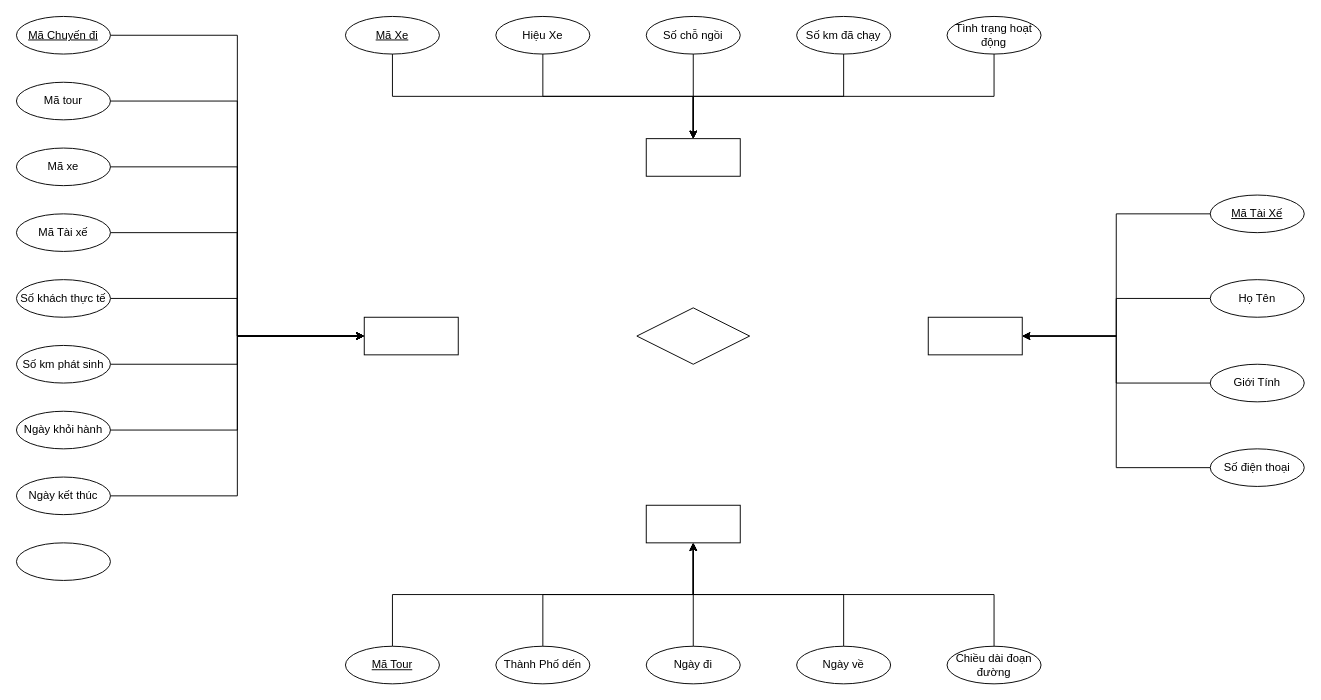
Image size: 1321x700. Some labels were removed from this diagram. The shapes that lost their labels are listed below. From the top down, each one's box as (x1, y1, x2, y2) in pixels, then its label:
(645, 138, 740, 176): Xe
(363, 316, 458, 355): CHUYẾN ĐI
(636, 307, 750, 364): Phân công
(927, 316, 1022, 355): Tài Xế
(645, 504, 740, 543): Tour
(16, 542, 110, 580): Trạng thái chuyến đi
